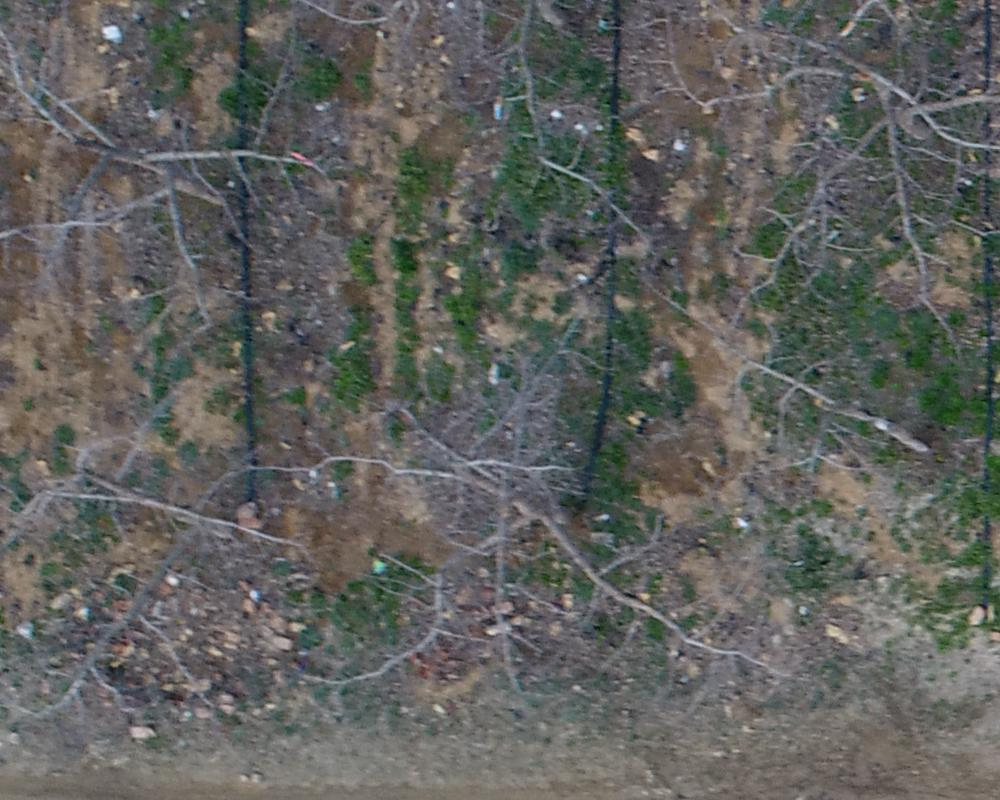apple: (311, 362, 786, 744), (679, 10, 990, 332), (10, 34, 334, 309), (10, 446, 312, 734)
